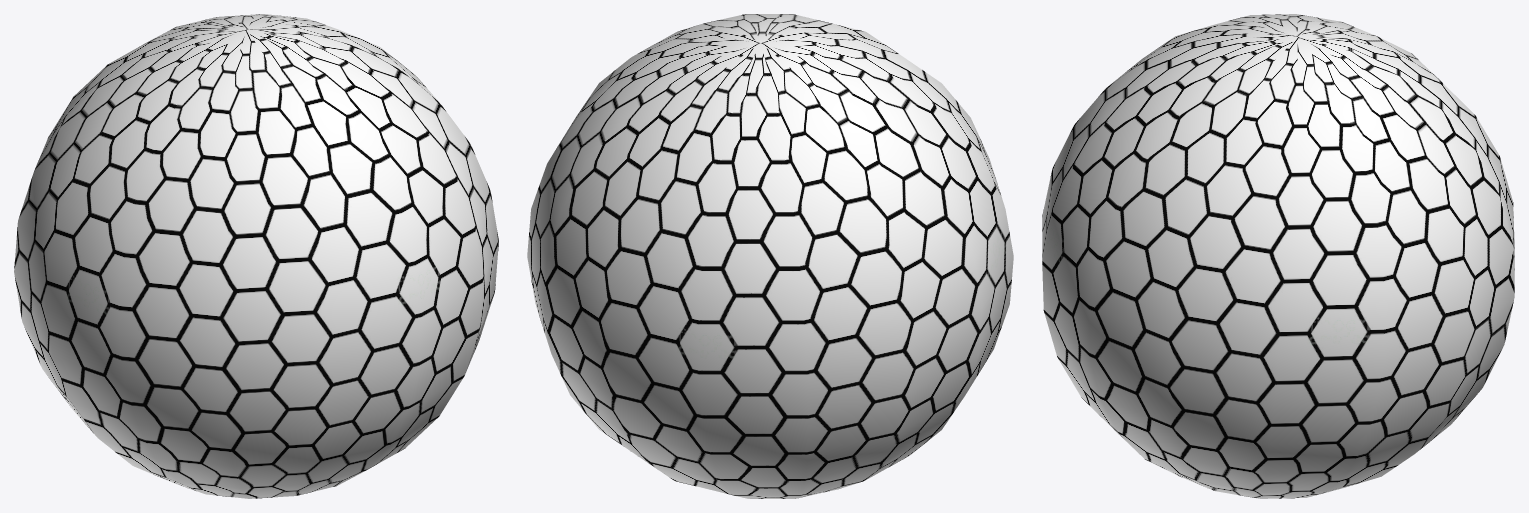
File: Ball4.fbx
3 renders of one model, left to right at view 1: azimuth 30°, elevation 25°; view 2: azimuth 150°, elevation 25°; view 3: azimuth 270°, elevation 25°, orthographic.
Parts seen in each view (by area): view 1: pSphere2; view 2: pSphere2; view 3: pSphere2.
Part boxes in pixels (x1,y1,x2,y2): pSphere2: (14, 14, 498, 498); pSphere2: (527, 14, 1013, 498); pSphere2: (1042, 14, 1514, 498).
Bounding box in the file's own units: 200 × 200 × 195.
Materials: 1 (1 with a texture image).
